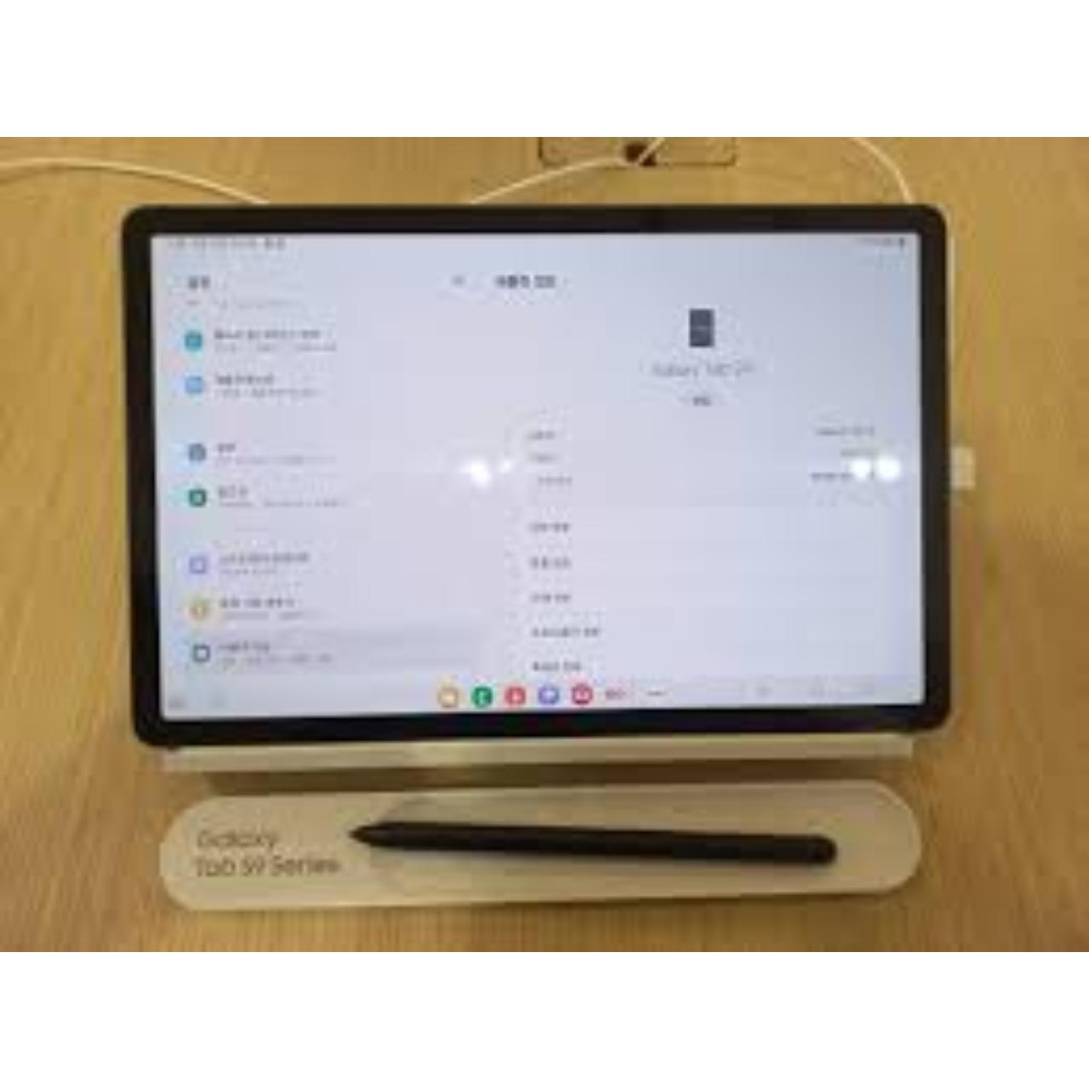Tablet_PC: (117, 199, 960, 749)
